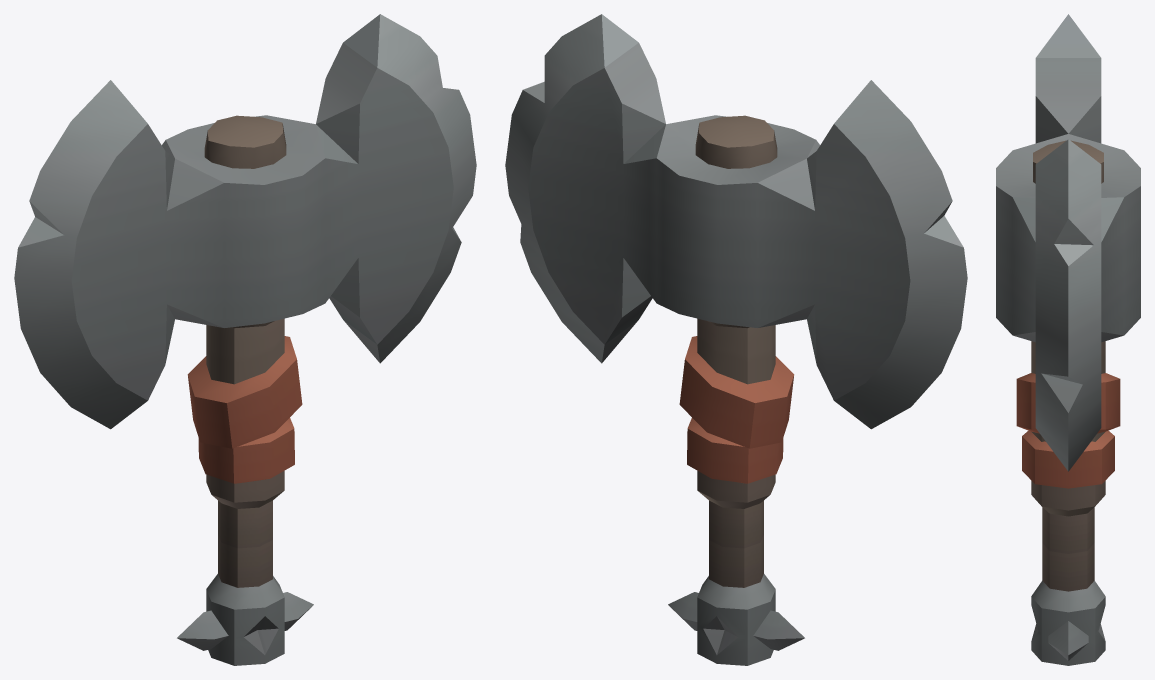
The model's file is skeleton_axe.glb.
The picture shows the model from 3 angles, left to right: view 1: azimuth 30°, elevation 25°; view 2: azimuth 150°, elevation 25°; view 3: azimuth 270°, elevation 25°; orthographic projection. The views are drawn at different scales.
Visible parts, largest first — view 1: Skeleton_Axe; view 2: Skeleton_Axe; view 3: Skeleton_Axe.
Boxes of the visible parts, x1=… form: Skeleton_Axe: x1=14, y1=14, x2=476, y2=665; Skeleton_Axe: x1=505, y1=14, x2=967, y2=665; Skeleton_Axe: x1=996, y1=14, x2=1140, y2=665.
Size of the model in its own units: 0.9885 by 1.25 by 0.2818.
1 material, 1 textured.
